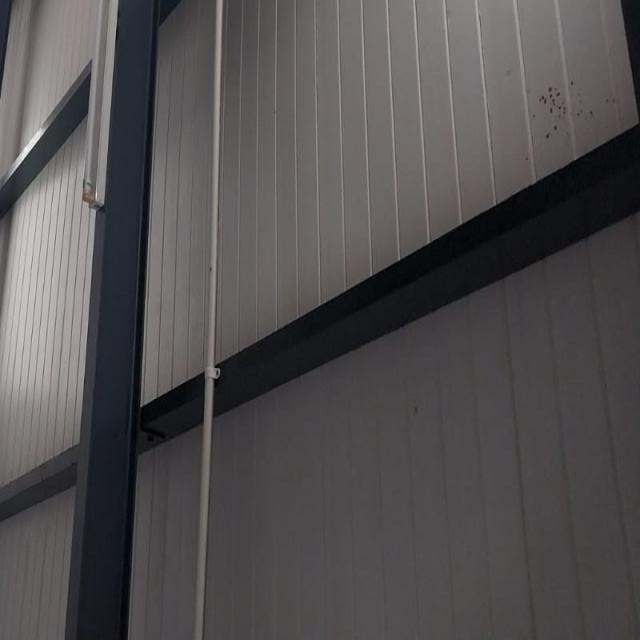fluorescent tube: (60, 0, 148, 221)
